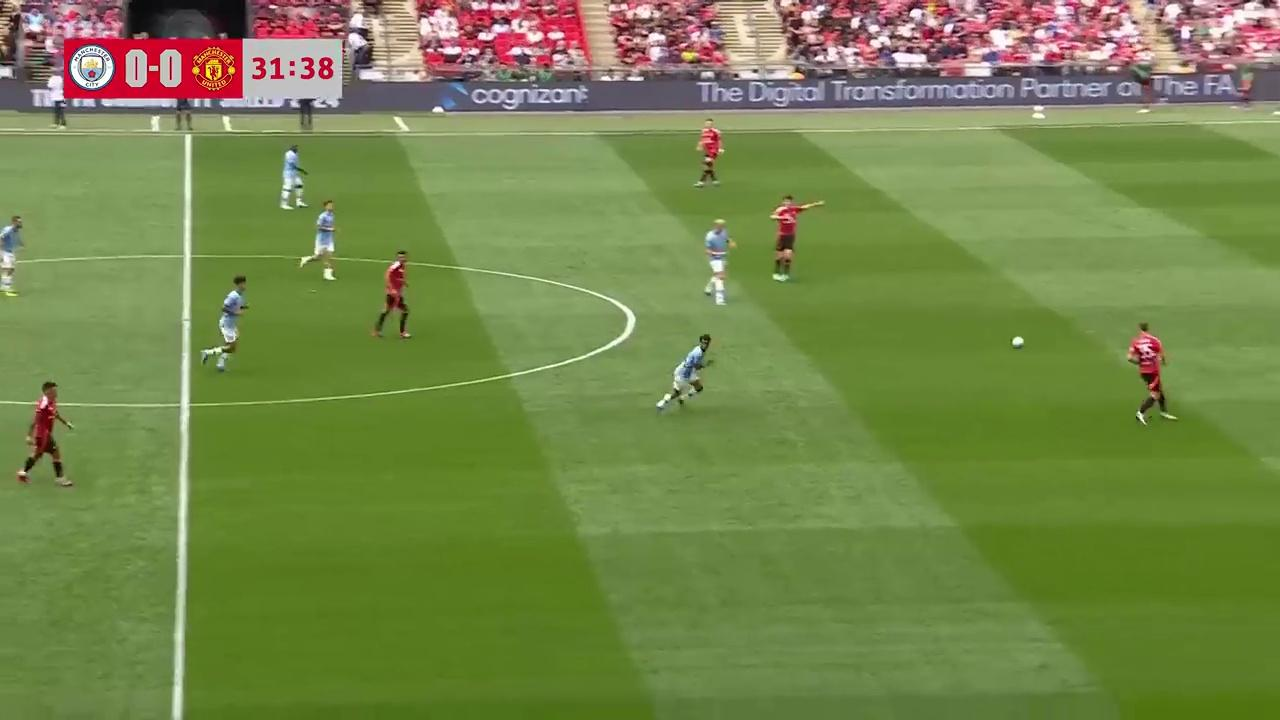ball: (1010, 332, 1026, 348)
player: (15, 380, 75, 488), (1127, 322, 1178, 425), (200, 274, 249, 371), (770, 194, 823, 281), (656, 335, 716, 411), (370, 250, 412, 340), (770, 193, 807, 281), (299, 199, 338, 282), (704, 219, 736, 304), (694, 121, 723, 187), (280, 143, 309, 209), (0, 214, 23, 297)
